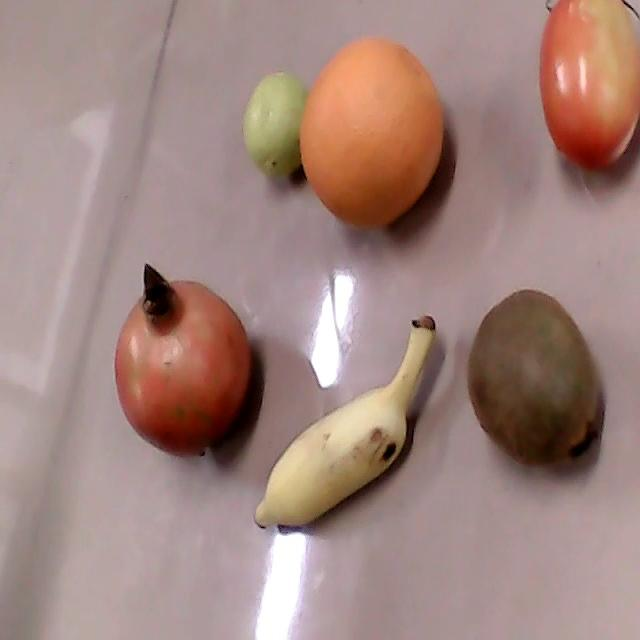kiwi: (467, 289, 600, 470)
lemon: (243, 72, 306, 178)
orange: (300, 38, 444, 230)
pomegranate: (115, 263, 250, 459)
tomato: (539, 1, 639, 171)
